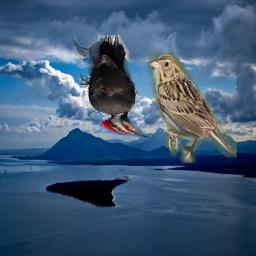Sparrow: (148, 53, 237, 163)
Woodpecker: (73, 35, 155, 140)
